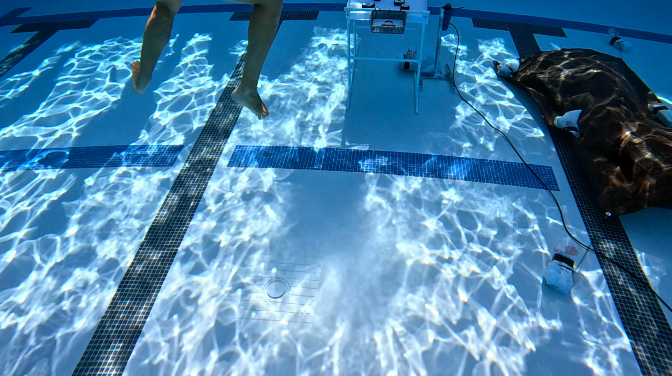sandbag: (502, 46, 671, 217)
